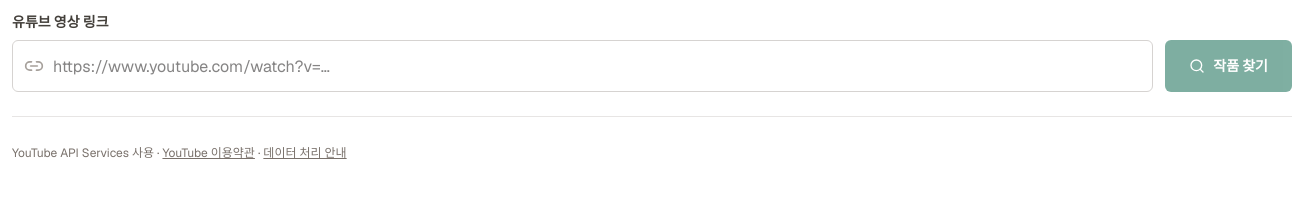
Test: YouTube search › validates the URL without requesting anything
Type "invalid" into the field labelled "유튜브 영상 링크" at (583, 66), box 12,40 -> 1153,92
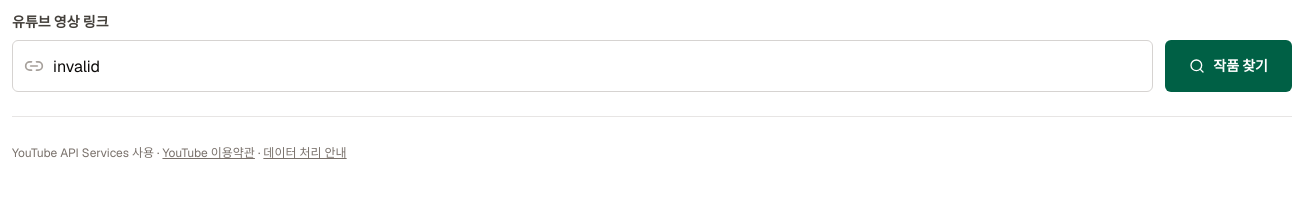
Click the button "작품 찾기" at (1229, 66), box 1165,40 -> 1292,92
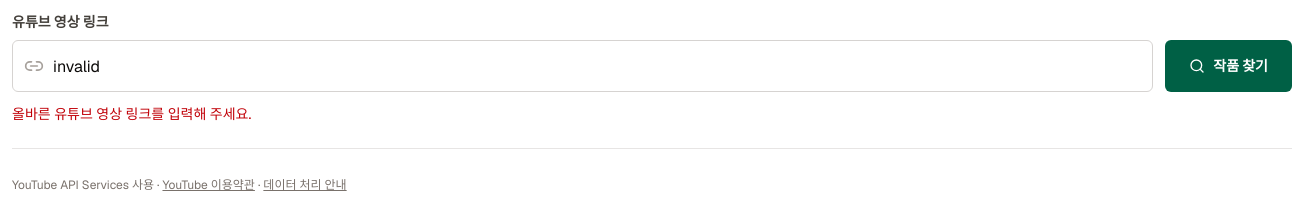
Now the message shows "유튜브 영상 링크", box 12,105 -> 251,123
